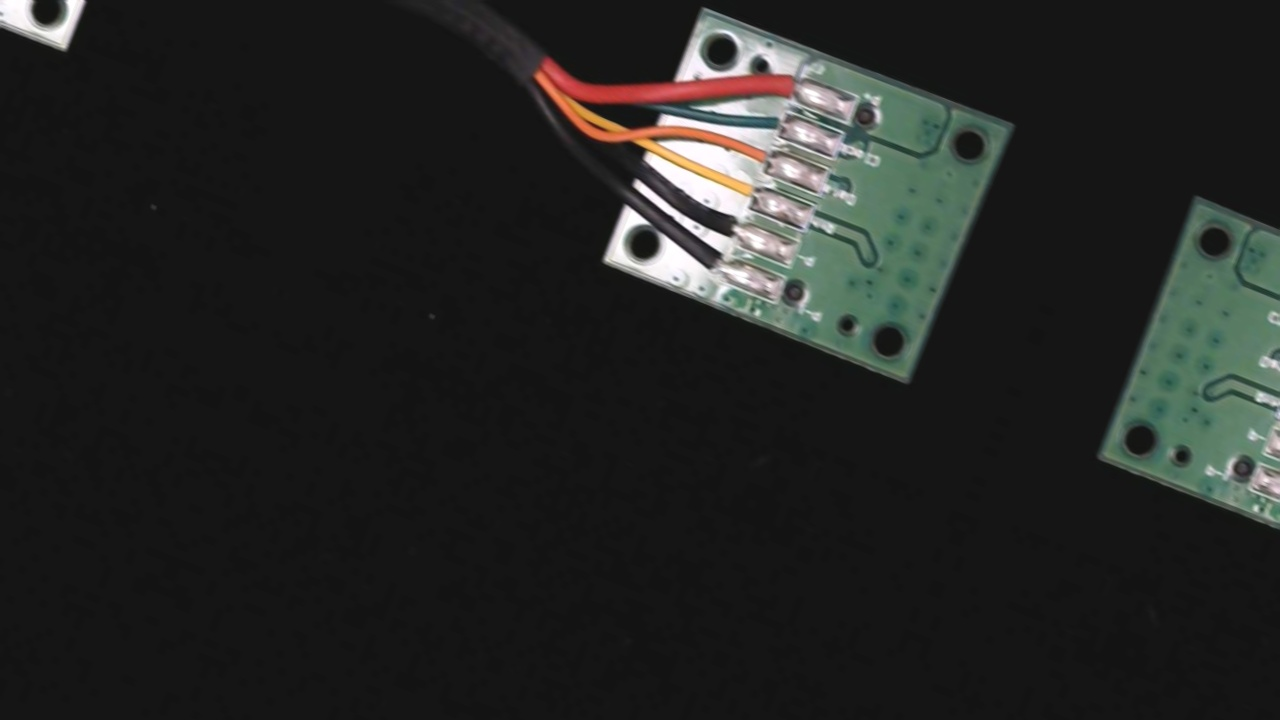Black: (696, 202, 758, 248)
Black1: (681, 237, 744, 285)
Green: (744, 96, 804, 144)
Orange: (728, 131, 788, 179)
Red: (759, 61, 818, 105)
Yellow: (708, 163, 772, 214)
